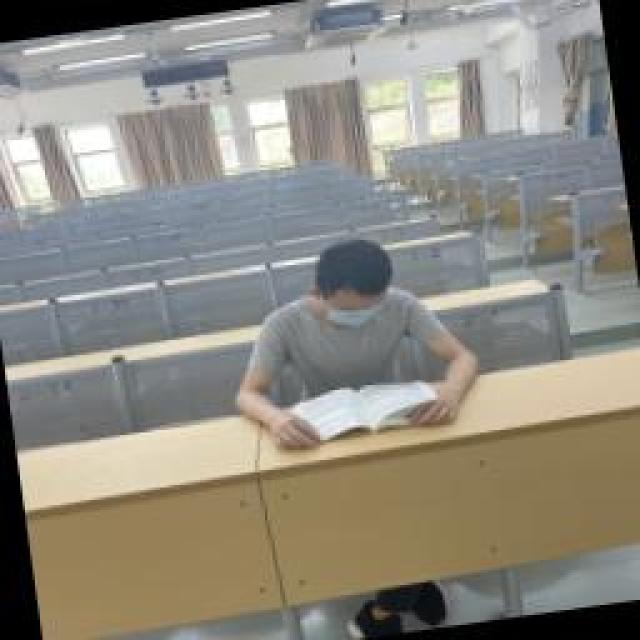study: (215, 225, 487, 453)
